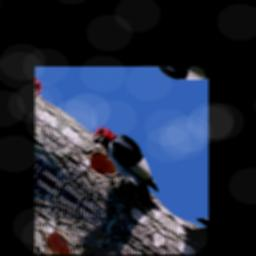Woodpecker: (72, 113, 182, 221)
